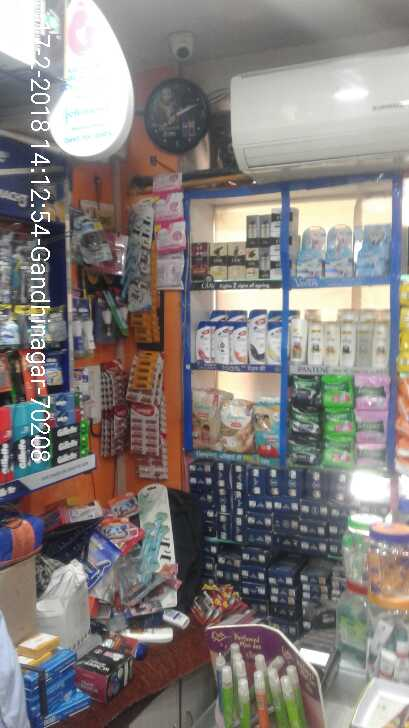gillete: (66, 291, 96, 355), (22, 309, 63, 346), (29, 401, 44, 473), (22, 260, 45, 304), (14, 406, 29, 473), (1, 406, 14, 481), (98, 304, 119, 344), (21, 351, 40, 391), (43, 354, 63, 382), (55, 448, 89, 463), (56, 421, 89, 436), (1, 310, 17, 337), (47, 420, 53, 470), (57, 440, 91, 446)
venus: (119, 204, 151, 306), (356, 224, 390, 278), (296, 227, 327, 275), (327, 227, 356, 278)
